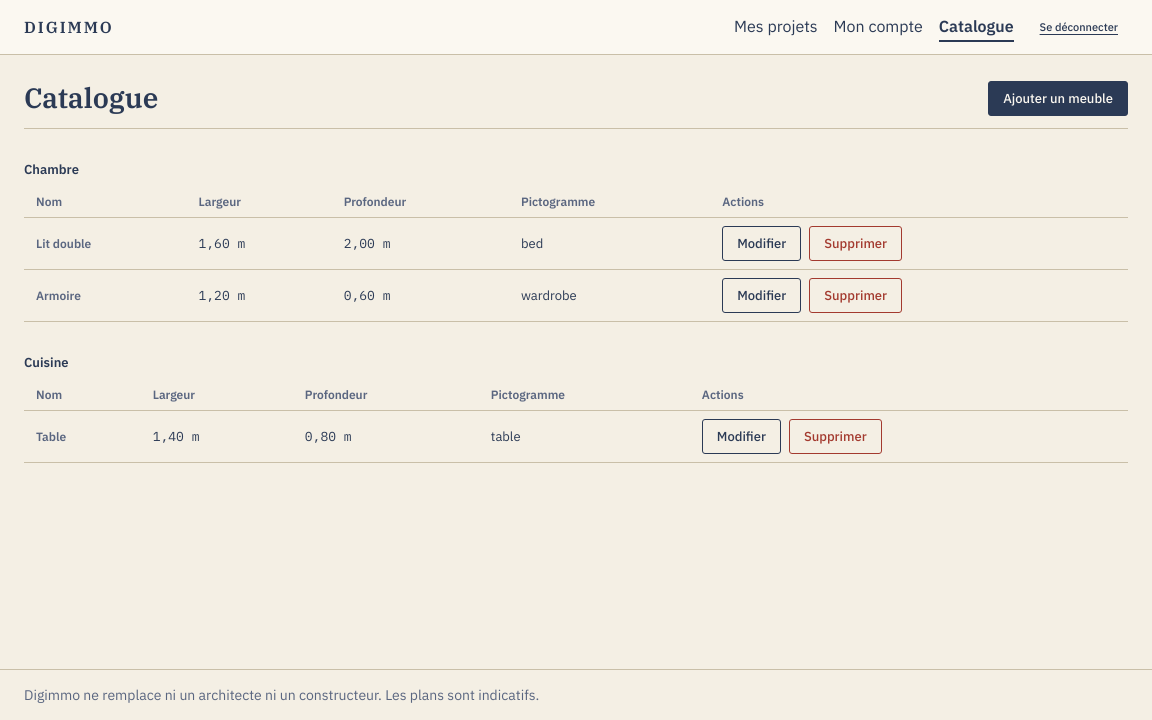
it: administration du catalogue › modification : PATCH puis valeurs mises à jour
The image size is (1152, 720).
Click the button with aria-label "Modifier Lit double": click(762, 244) [722,226,801,261]
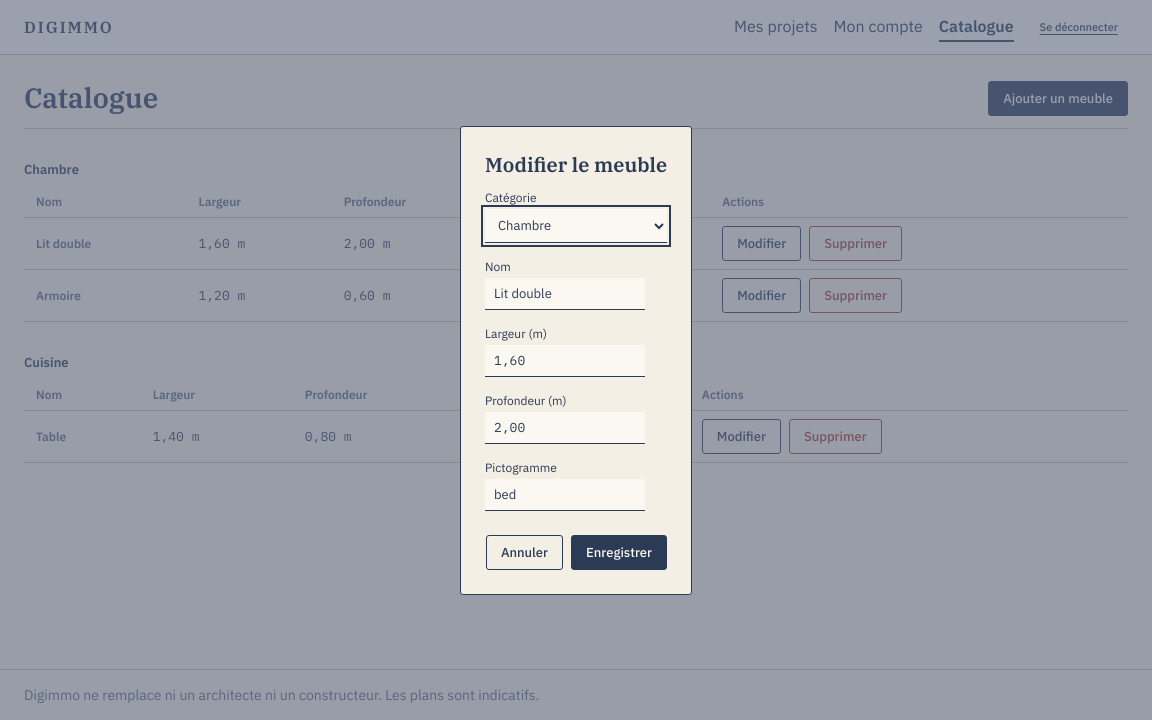
Result: the field labelled "Largeur (m)" holds "1,60"
Replace the text in the field labelled "Largeur (m)" with "1,80": (565, 360) [485,344,645,376]
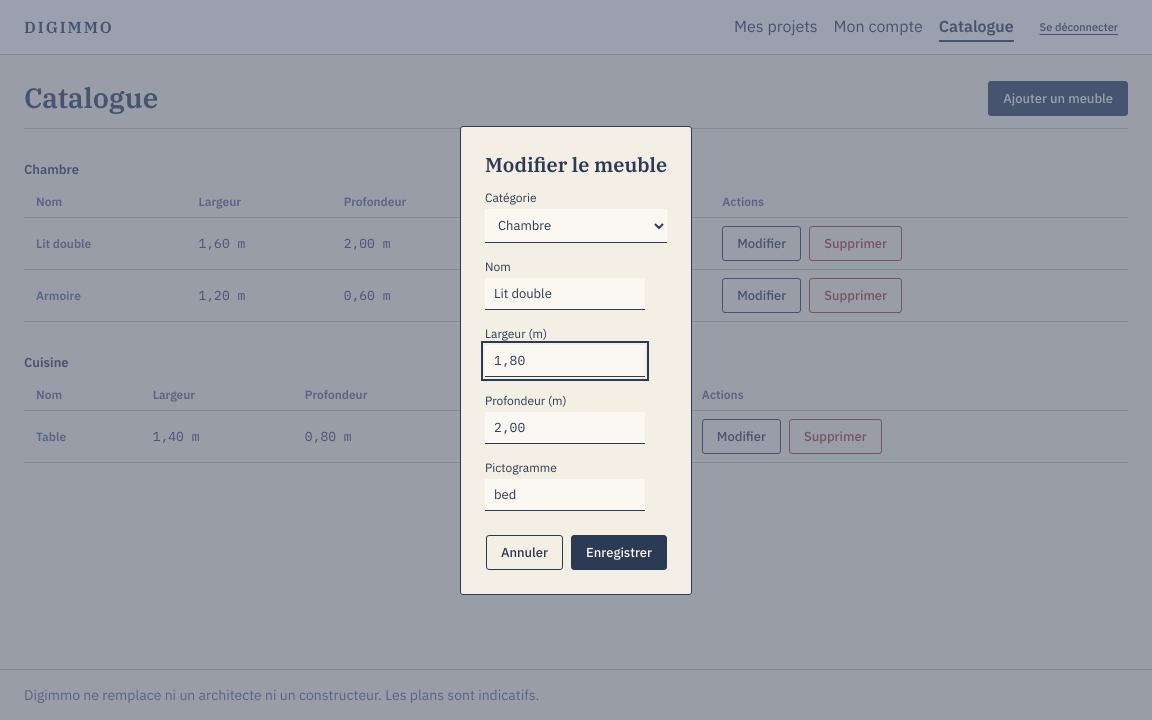
Click the button "Enregistrer": click(619, 552) [571,534,667,570]
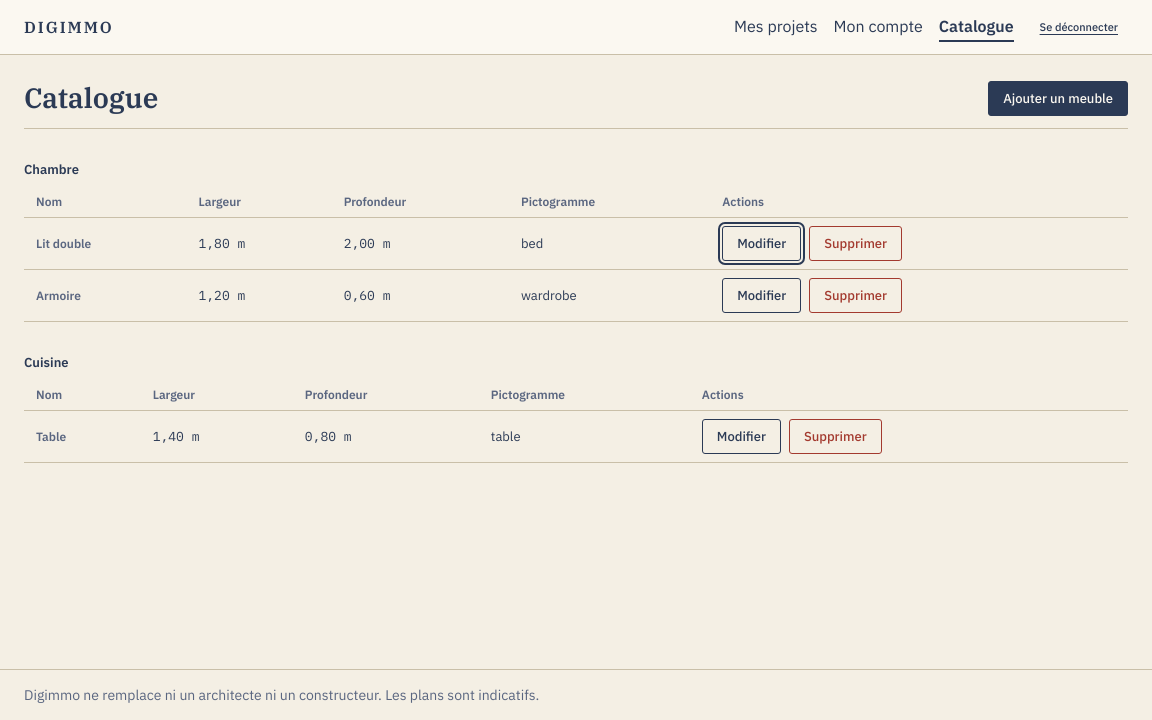
Result: the text "1,80 m" is shown at [186,218,332,270]
